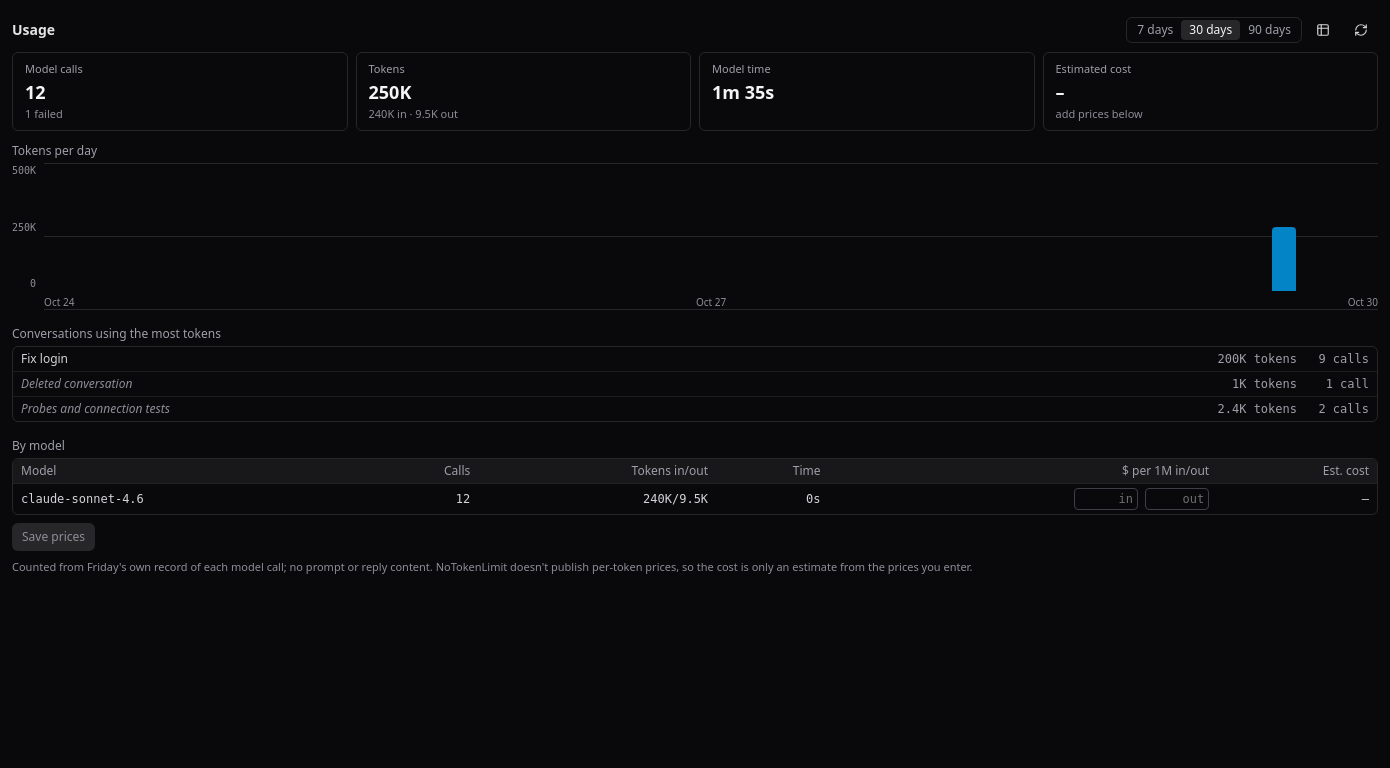
Test: usage view › saves prices per model and shows the estimate
The width and height of the screenshot is (1390, 768).
Check: the text "Fix login" is shown, box [21,350,68,367]
Check: the button "Save prices" is disabled, box [12,523,95,551]
Type "3" into the field named "claude-sonnet-4.6 input price per million tokens" at (1106, 499), box [1074,488,1138,510]
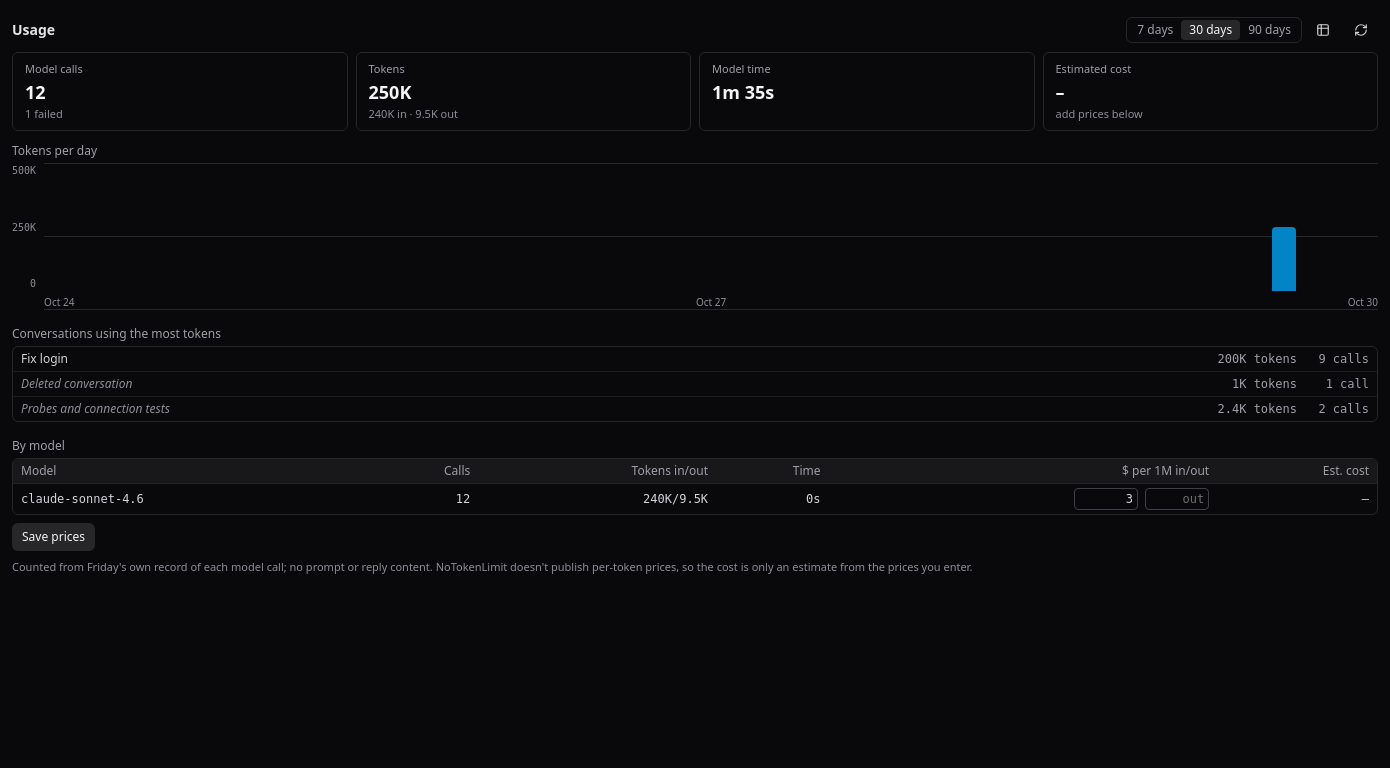
Type "15" into the field named "claude-sonnet-4.6 output price per million tokens" at (1177, 499), box [1145,488,1209,510]
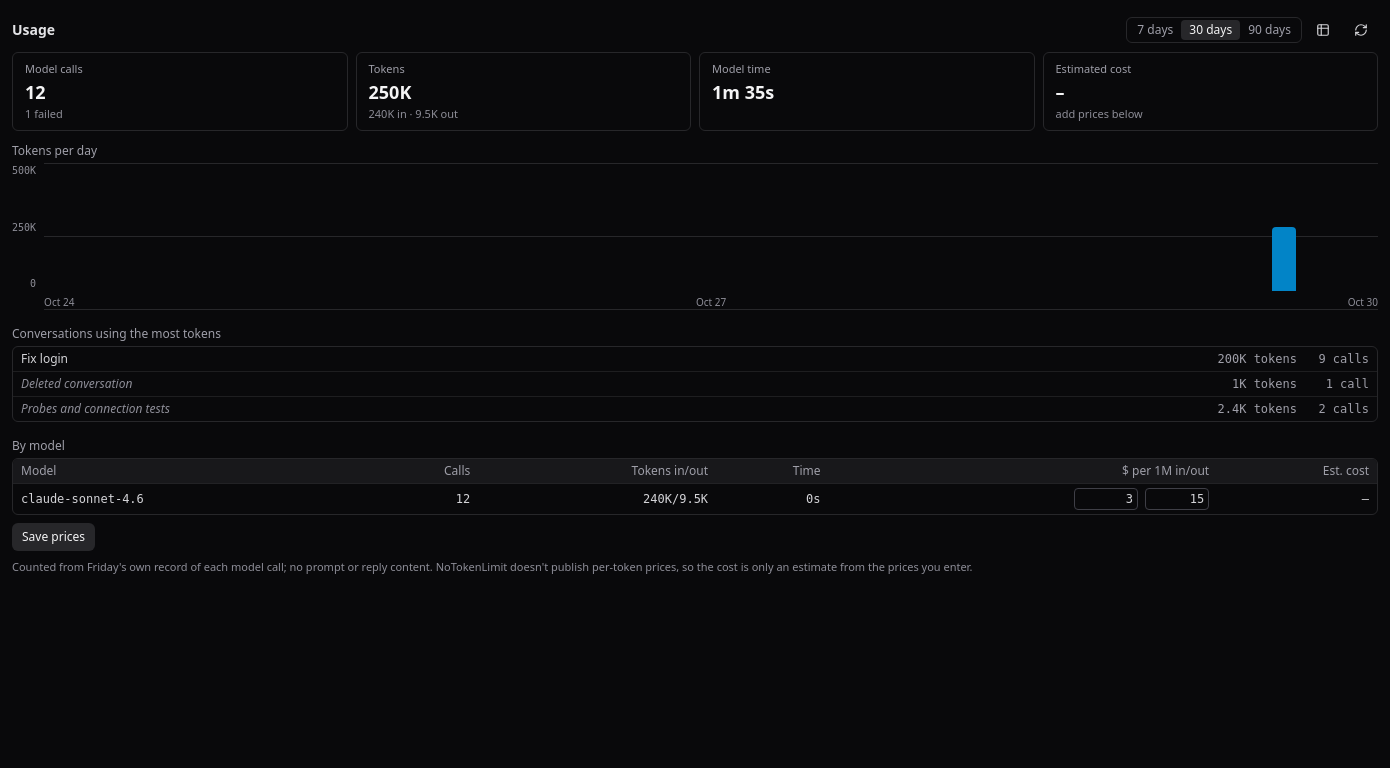
Click the button "Save prices" at (54, 537), box [12,523,95,551]
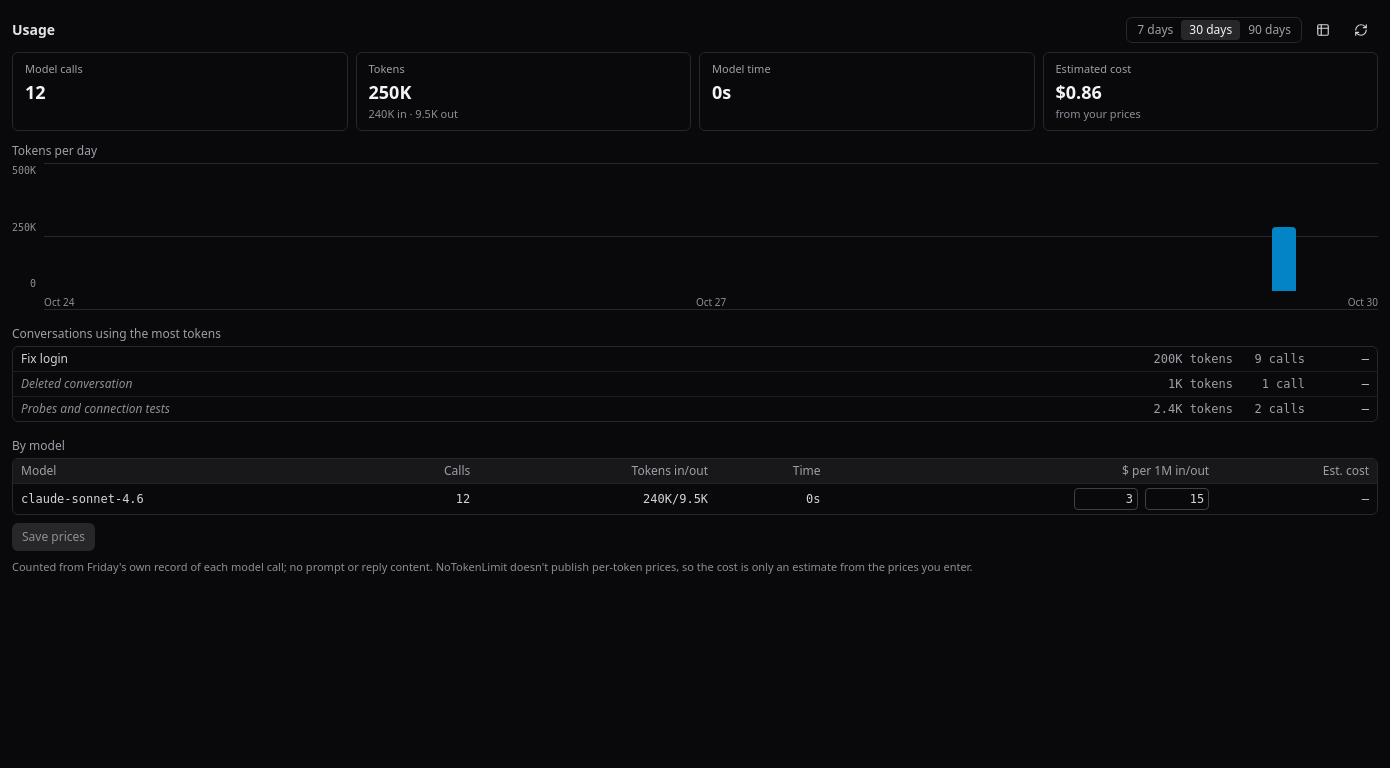
Check: the text "$0.86" is shown, box [1056,80,1102,104]
Check: the text "from your prices" is shown, box [1056,106,1141,120]
